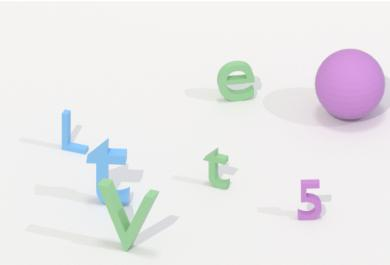5: (296, 176, 323, 223)
L: (57, 105, 90, 157)
V: (98, 175, 162, 257)
e: (214, 58, 258, 105)
t: (85, 136, 134, 210), (200, 145, 232, 192)
